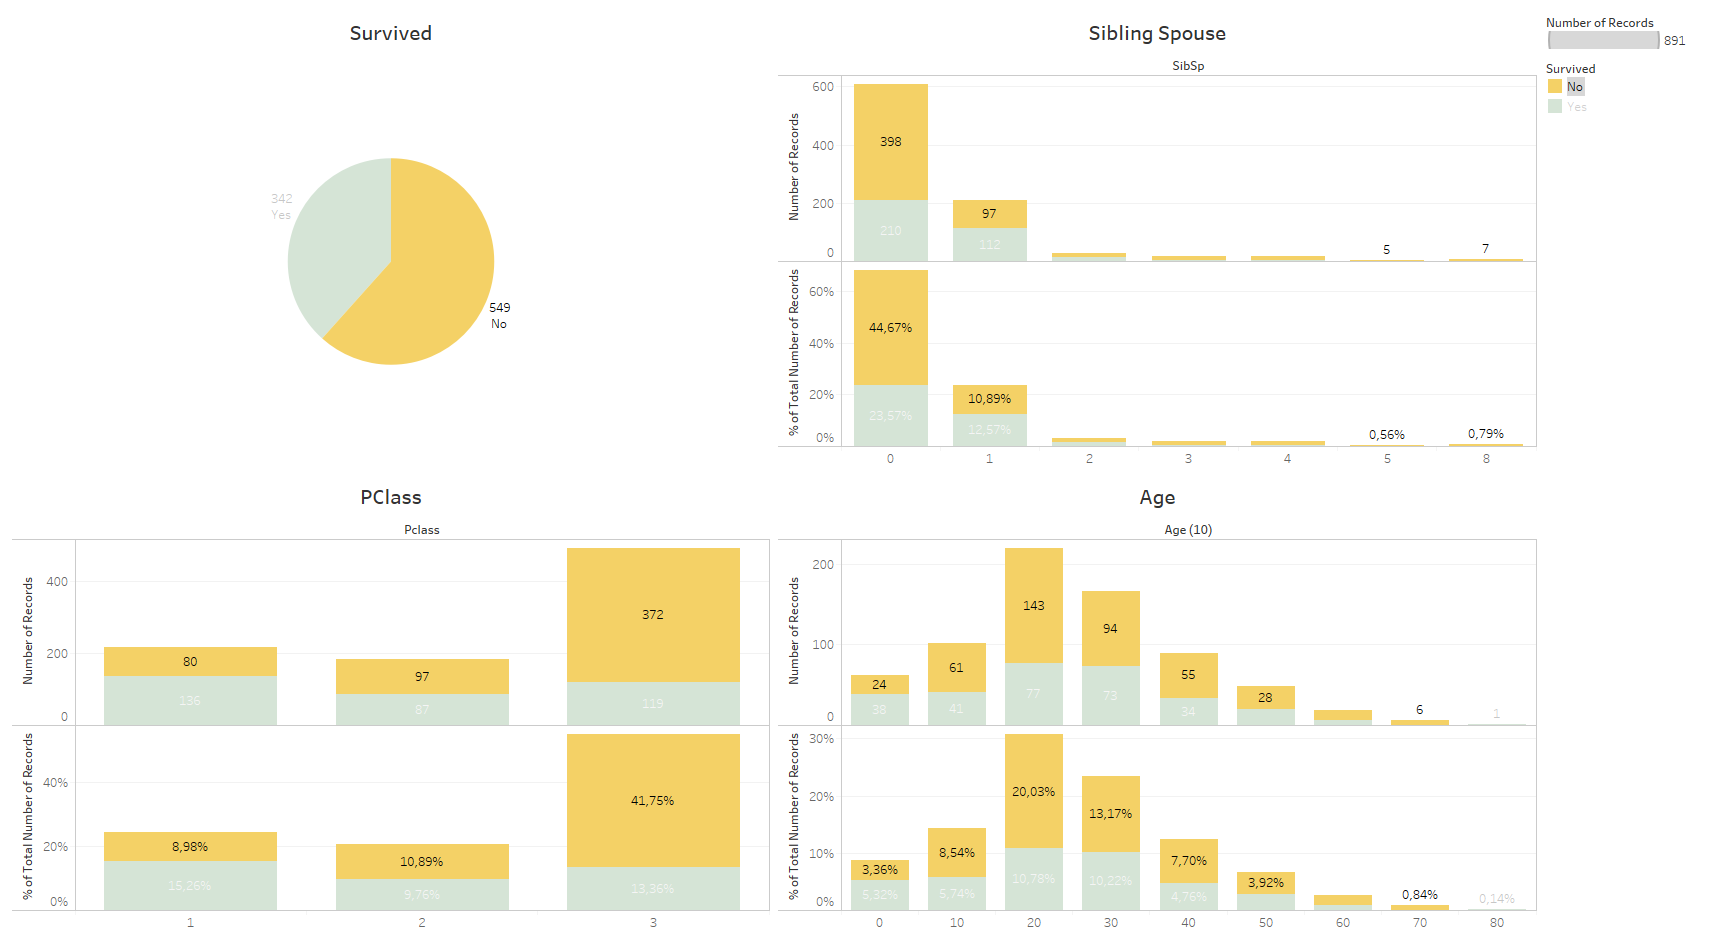

The dashboard page shown, as its layout file describes it:
{"tool":"tableau","page":{"name":"Report","canvas":[1000,1000],"units":"permille","ordinal":0},"visuals":[{"type":"worksheet","title":"Survived","mark":"Pie","box":[4.7,8.5,448.5,491.5]},{"type":"worksheet","title":"Sibling Spouse","mark":"Automatic","rows":["Number of Records","Number of Records"],"cols":["SibSp"],"box":[453.2,8.5,448.6,491.5]},{"type":"legend","title":"Survived","param":"[federated.1k5ihd51cbc3k113dtytt191uhcs].[sum:Number of Records:qk]","box":[901.7,8.5,93.6,48.7]},{"type":"legend","title":"Survived","param":"[federated.1k5ihd51cbc3k113dtytt191uhcs].[none:Survived:ok]","box":[901.7,57.2,93.6,69.9]},{"type":"worksheet","title":"PClass","mark":"Automatic","rows":["Number of Records","Number of Records"],"cols":["Pclass"],"box":[4.7,500,448.5,491.6]},{"type":"worksheet","title":"Age","mark":"Automatic","rows":["Number of Records","Number of Records"],"cols":["Age (bin)"],"box":[453.2,500,448.6,491.6]}]}

Visuals, with their boxes on the dashboard's canvas, which has no fixed pixel size, in thousandths of its width and height (x1, y1, x2, y2). These are canvas units, not pixel positions in the 1709x944 screenshot, which may show the page scaled, cropped or inside an application window:
"Survived" worksheet (Pie marks): pyautogui.locateOnScreen(5, 8, 453, 500)
"Sibling Spouse" worksheet: pyautogui.locateOnScreen(453, 8, 902, 500)
"Survived" legend: pyautogui.locateOnScreen(902, 8, 995, 57)
"Survived" legend: pyautogui.locateOnScreen(902, 57, 995, 127)
"PClass" worksheet: pyautogui.locateOnScreen(5, 500, 453, 992)
"Age" worksheet: pyautogui.locateOnScreen(453, 500, 902, 992)
